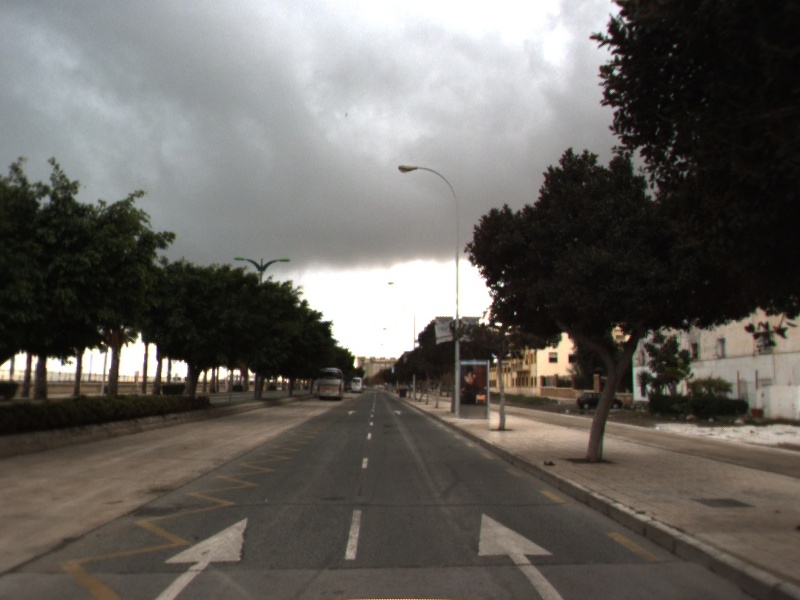STRAIGHT: (139, 513, 250, 600), (475, 509, 565, 600)
